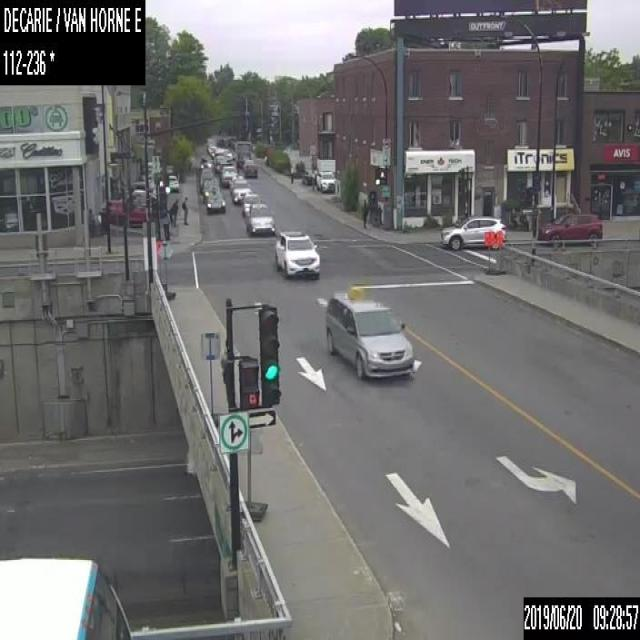bus: (0, 556, 133, 639)
construction: (200, 329, 225, 428), (245, 426, 268, 520), (157, 237, 175, 302), (494, 229, 505, 273), (485, 229, 493, 273)
pedestrian: (168, 193, 178, 227), (181, 194, 188, 224), (362, 196, 368, 228)
vehicle: (324, 284, 416, 380), (439, 213, 507, 251), (536, 209, 604, 240), (276, 229, 319, 278), (102, 195, 160, 228), (246, 202, 275, 233), (233, 140, 253, 168), (231, 179, 252, 203), (241, 192, 262, 215), (314, 169, 334, 193), (220, 165, 238, 188), (199, 169, 215, 193), (205, 193, 225, 212), (202, 179, 219, 200), (228, 172, 244, 192), (242, 158, 257, 177), (213, 147, 224, 171), (130, 188, 156, 198), (302, 168, 316, 184), (219, 161, 233, 175), (168, 174, 178, 191), (200, 156, 212, 170)
